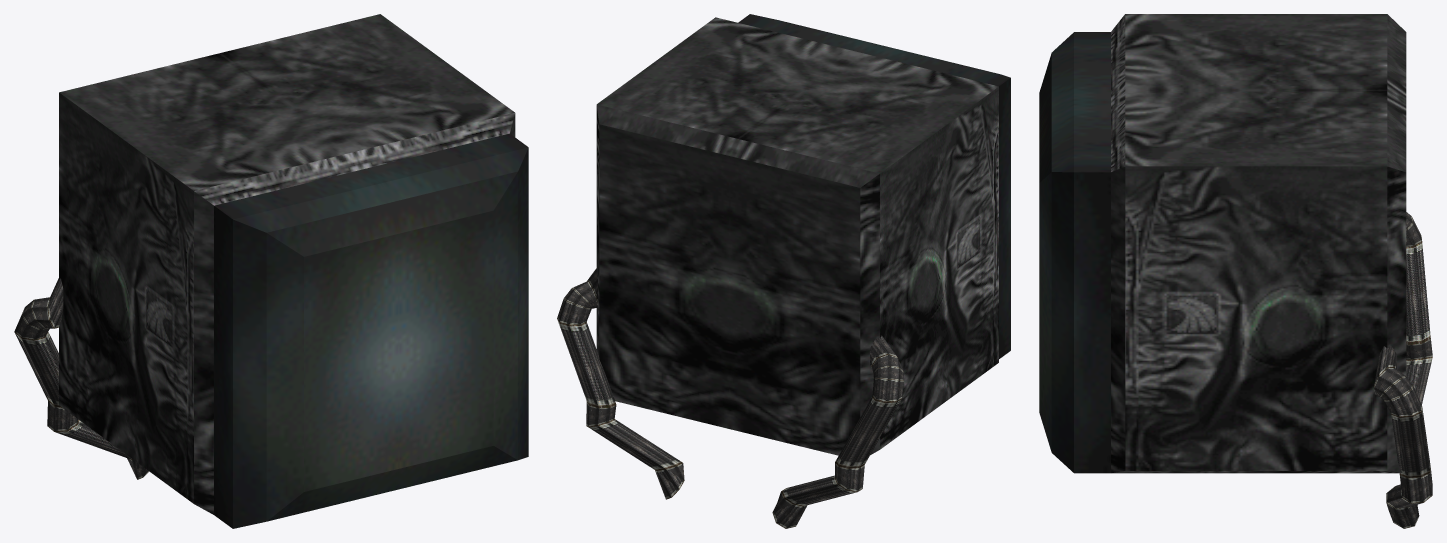
File: arm_seva_head.obj
3 views of the same model, side by side, from view 1: azimuth 30°, elevation 25°; view 2: azimuth 150°, elevation 25°; view 3: azimuth 270°, elevation 25° (orthographic). The views are drawn at different scales.
Visible parts, largest first — view 1: Cube_Cube.001; view 2: Cube_Cube.001; view 3: Cube_Cube.001.
Boxes of the visible parts, <box> form: Cube_Cube.001: <box>14,14,528,528</box>; Cube_Cube.001: <box>557,14,1010,528</box>; Cube_Cube.001: <box>1039,14,1432,528</box>.
Bounding box in the file's own units: 2.61 × 2.68 × 2.37.
